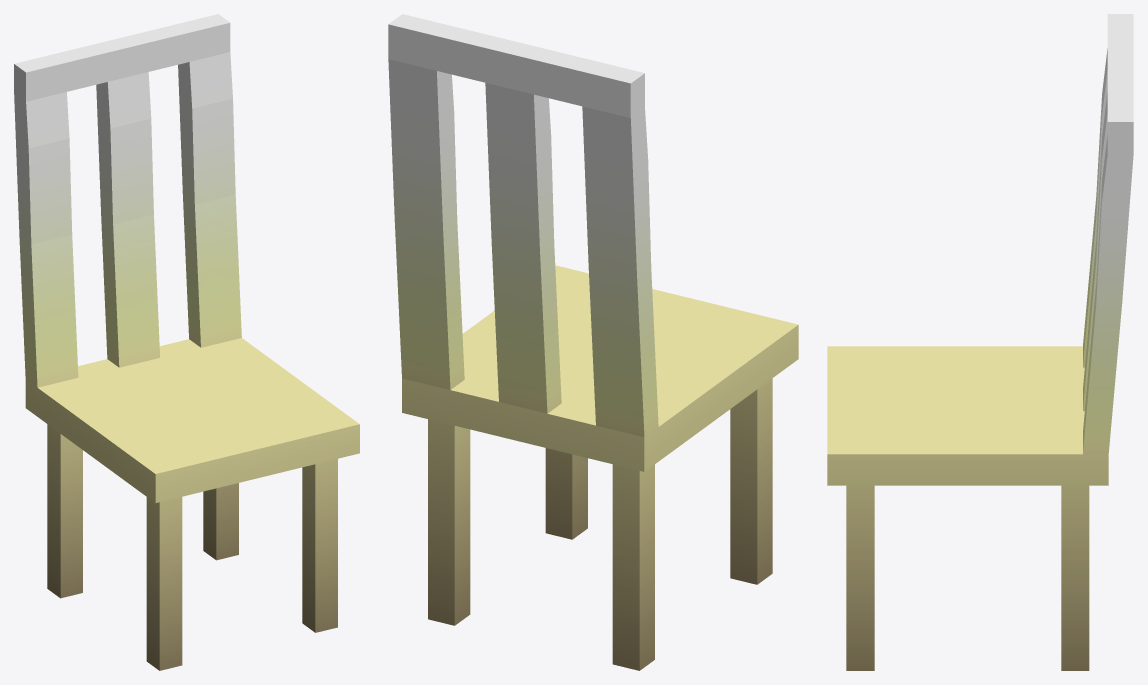
Rendered from Sillasimple.fbx.
3 views of the same model, side by side, from view 1: azimuth 30°, elevation 25°; view 2: azimuth 150°, elevation 25°; view 3: azimuth 270°, elevation 25° (orthographic). The views are drawn at different scales.
Parts seen in each view (by area): view 1: Sillasimple; view 2: Sillasimple; view 3: Sillasimple.
Boxes of the visible parts, x1,y1,x2,y2 form: Sillasimple: [14, 14, 359, 670]; Sillasimple: [388, 14, 798, 670]; Sillasimple: [827, 14, 1133, 670].
Bounding box in the file's own units: 1.48 × 3.54 × 1.77.
Materials: 1 (1 with a texture image).
